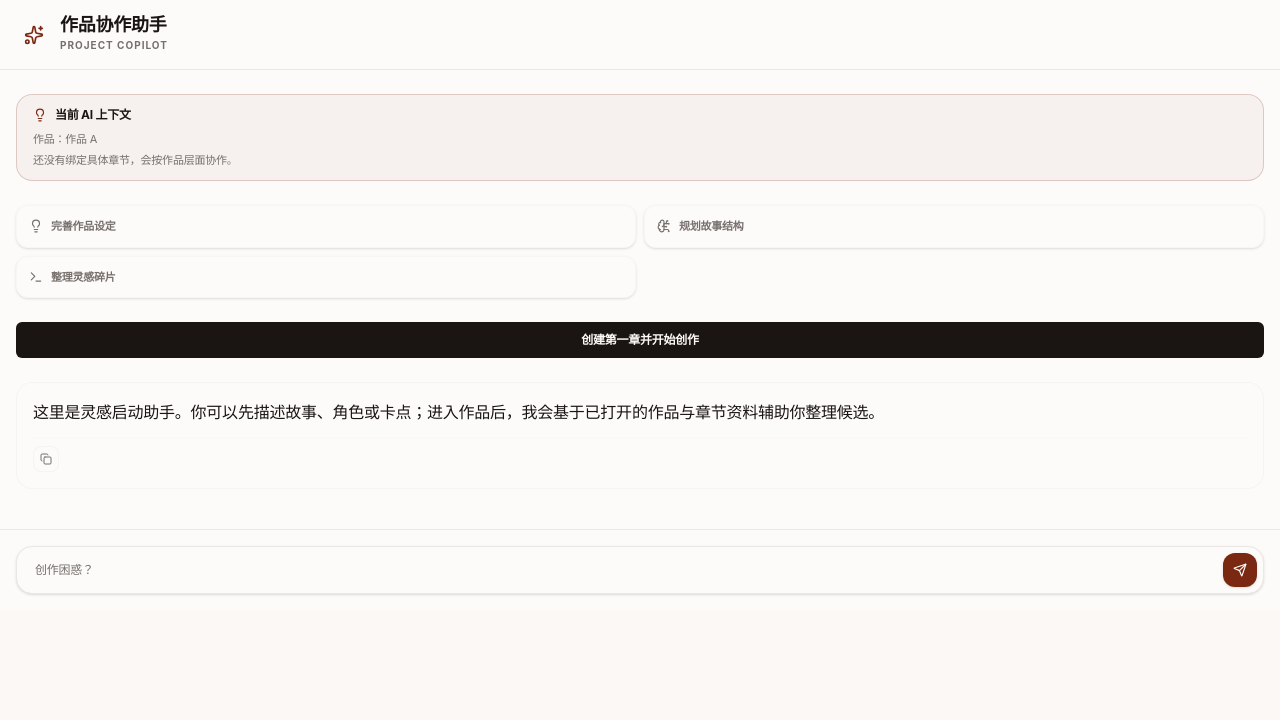
AIAssistant general session › 服务端 reason、finishReason、traceId 在告警中可见且不暴露 prompt
Type "私密提示词" into the field with placeholder "创作困惑？". click: (619, 570)
box: [23,554,1215,586]
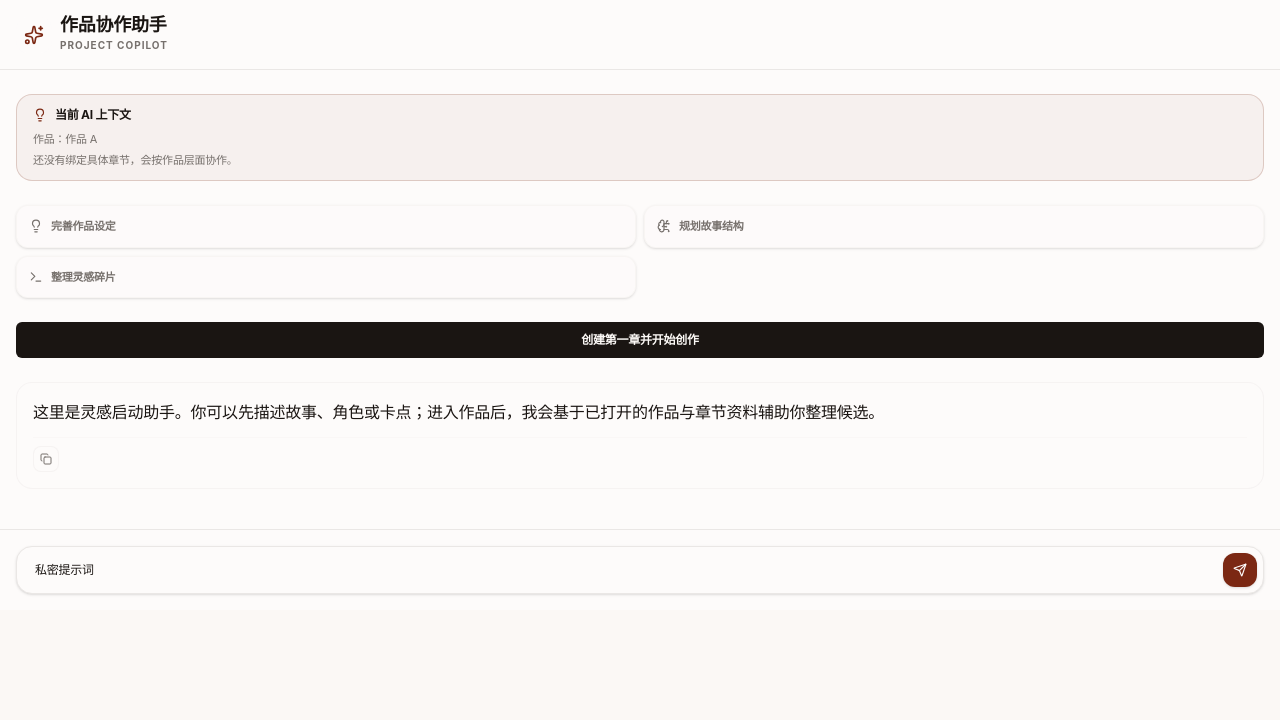
Click the button named "发送消息". click: (1240, 570)
box: [1223,553,1257,587]
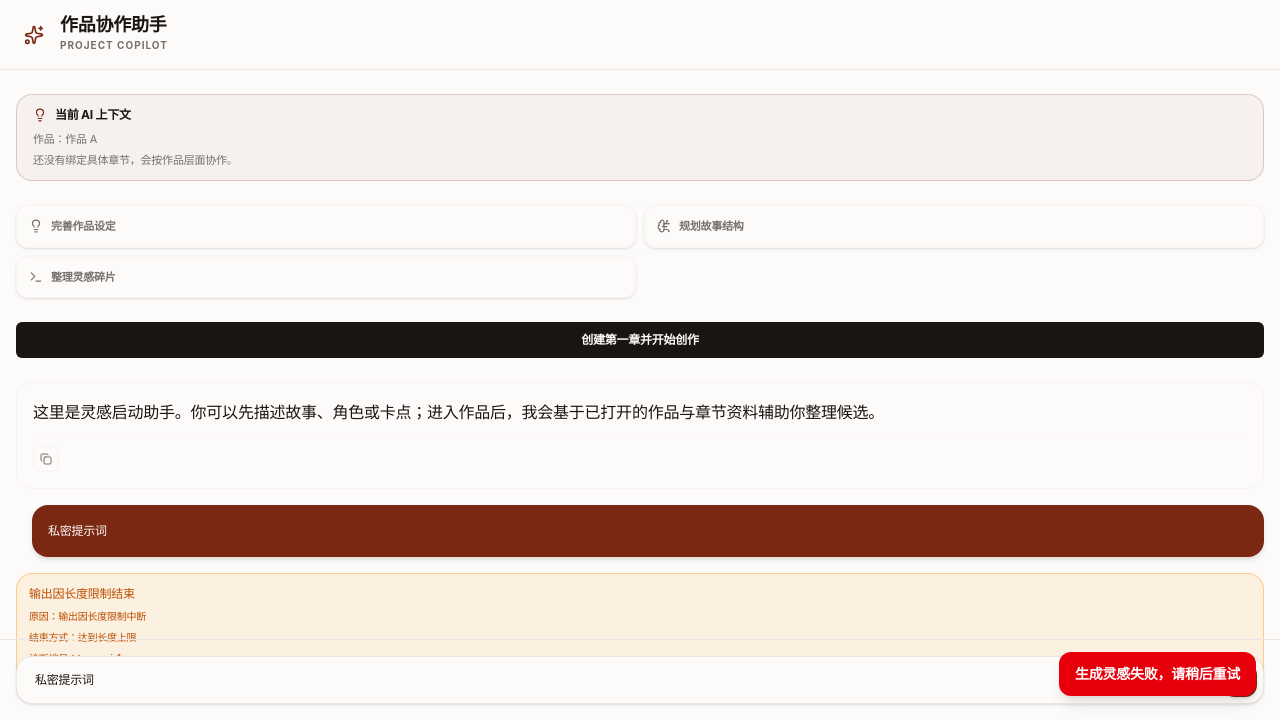
Result: the message named "助手请求失败" shows "输出因长度限制结束" at [29,586,135,600]
Result: the message named "助手请求失败" shows "结束方式：达到长度上限" at [16,572,1264,702]
Result: the message named "助手请求失败" shows "诊断编号：trace-ai-1" at [16,572,1264,702]
